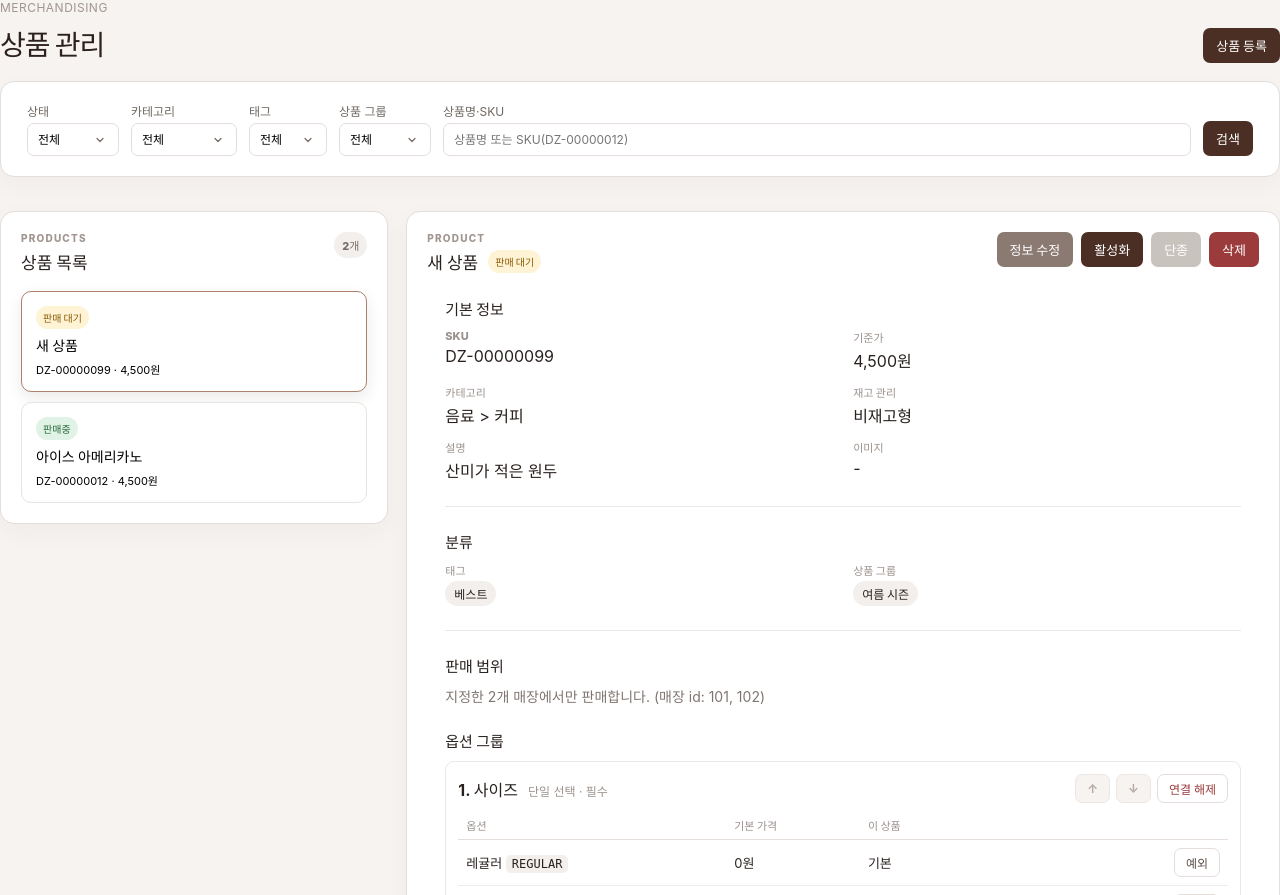
Test: ProductsPage 쓰기 › 등록에 성공하면 필터를 풀고 1페이지에서 새 상품을 선택해 안내한다
Select "판매 대기" in the dropdown labelled "상태". click: (73, 140)
box: [27, 123, 119, 156]
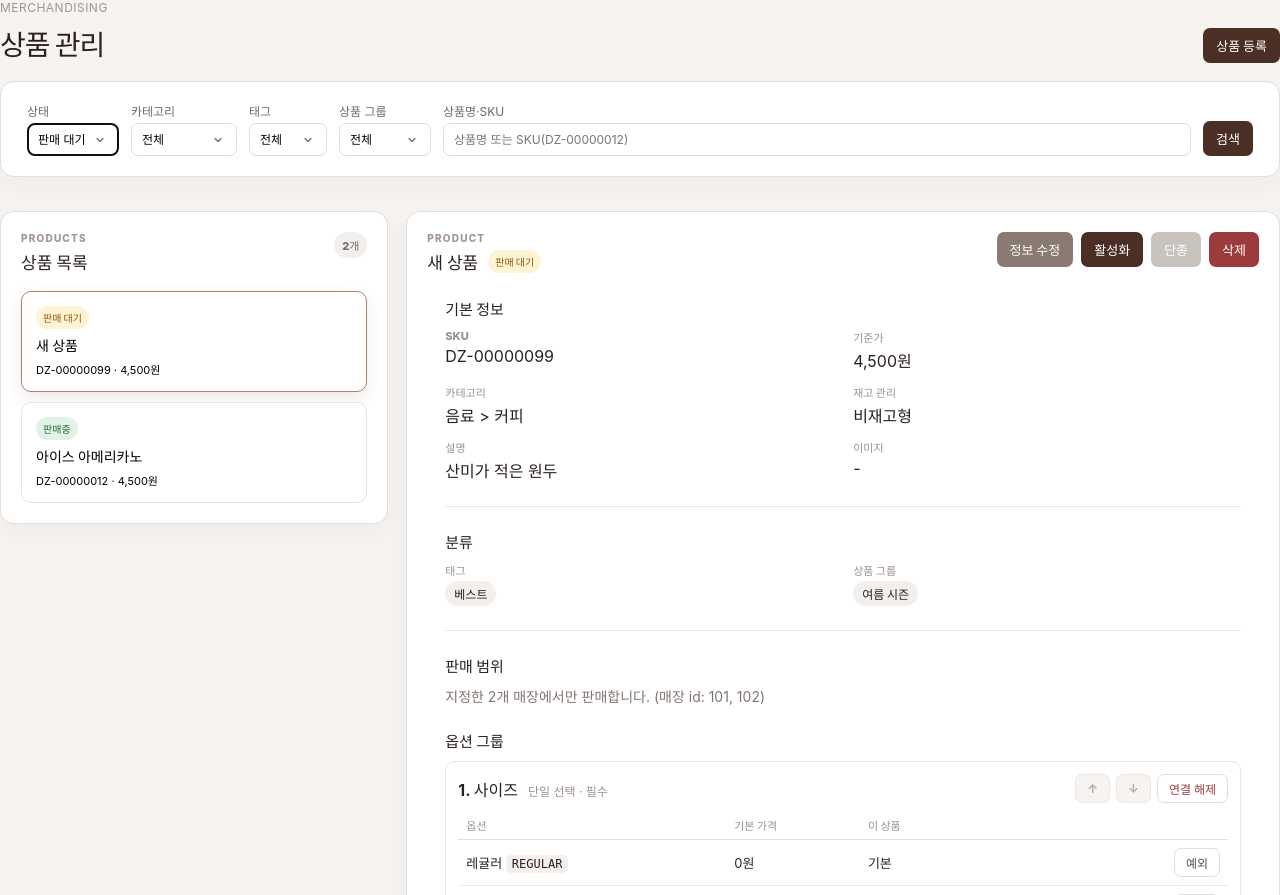
Click the button "상품 등록". click: (1242, 46)
box: [1203, 28, 1279, 63]
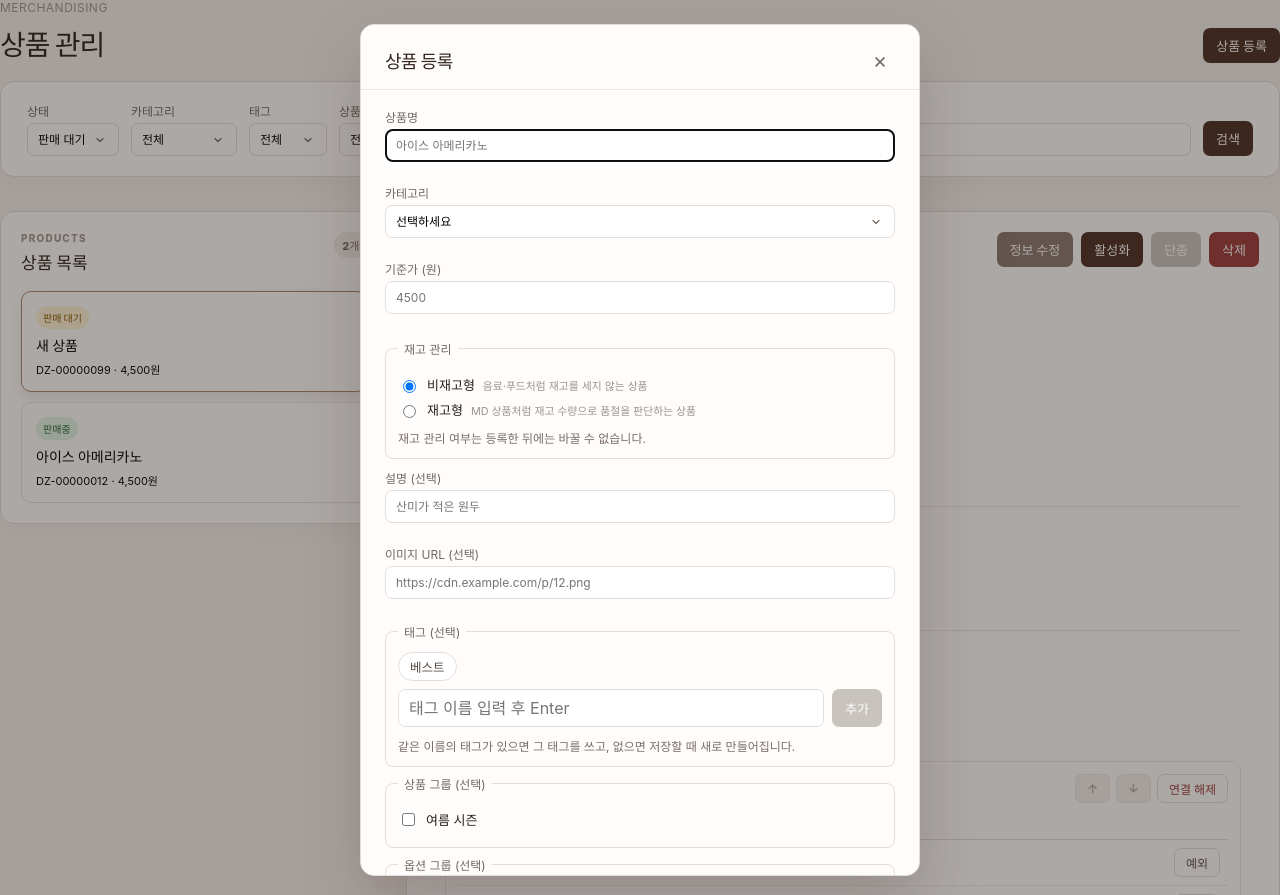
Type "새 상품" into the field labelled "상품명". click: (640, 146)
box: [385, 129, 895, 162]
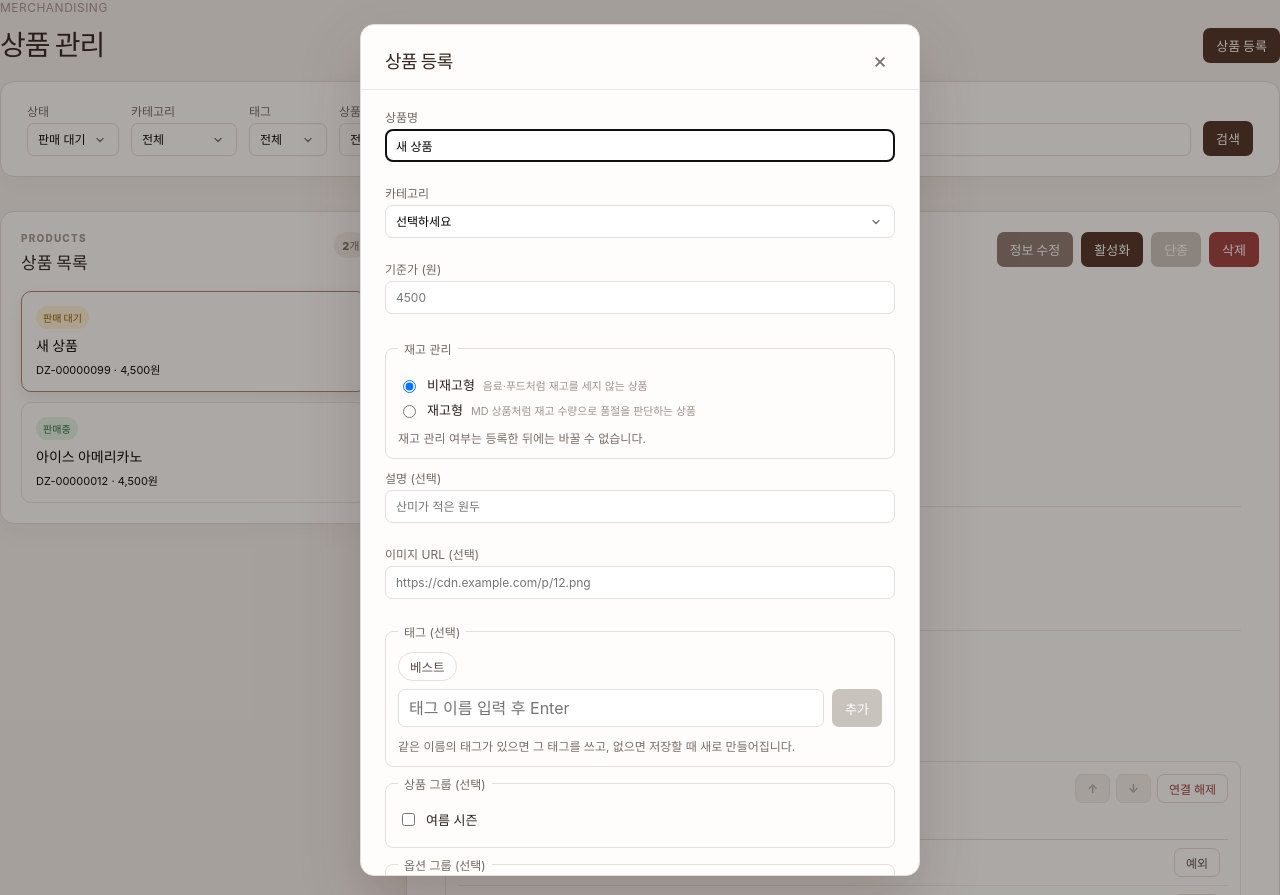
Select "커피" in the dropdown labelled "카테고리". click: (640, 222)
box: [385, 205, 895, 238]
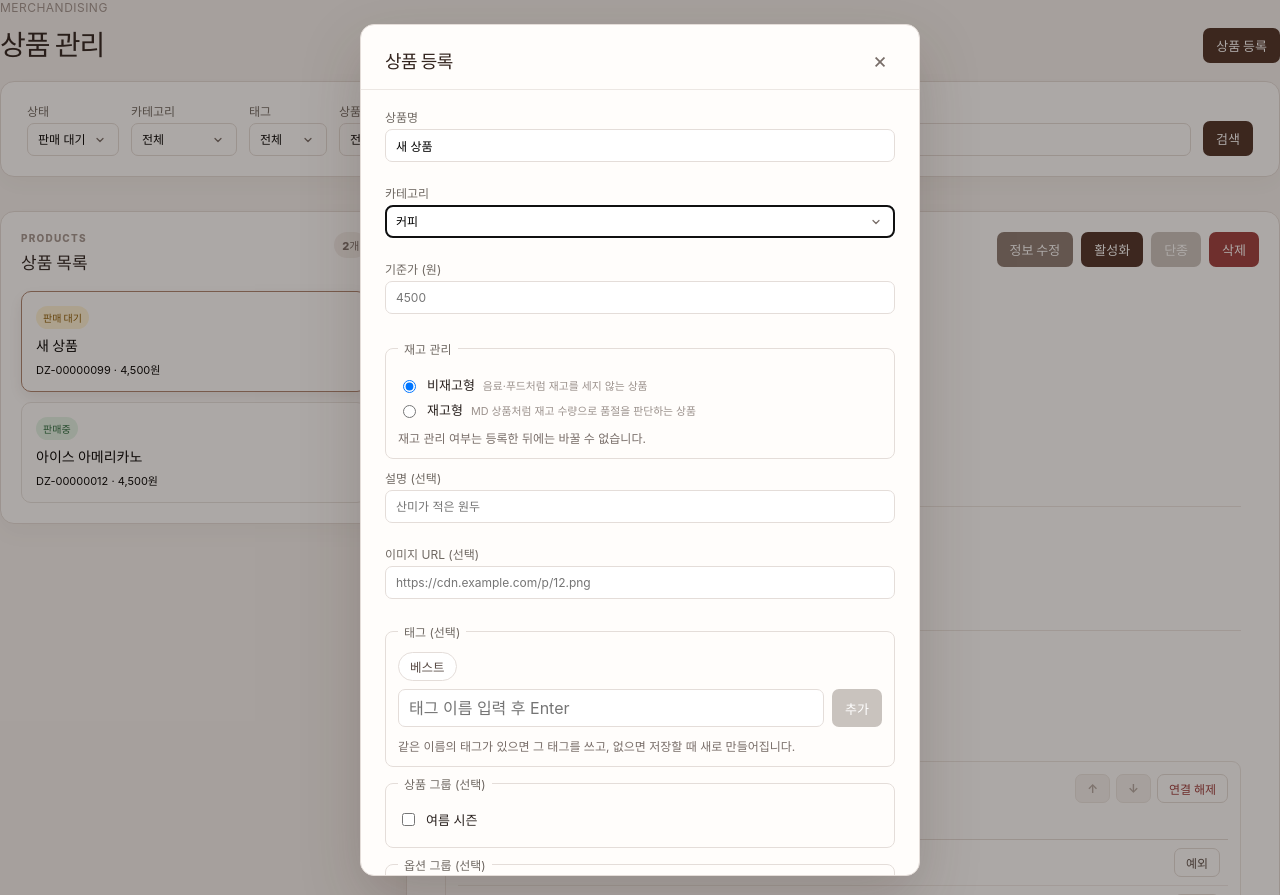
Type "4000" into the field labelled "기준가 (원)". click: (640, 298)
box: [385, 281, 895, 314]
(page scrolled)
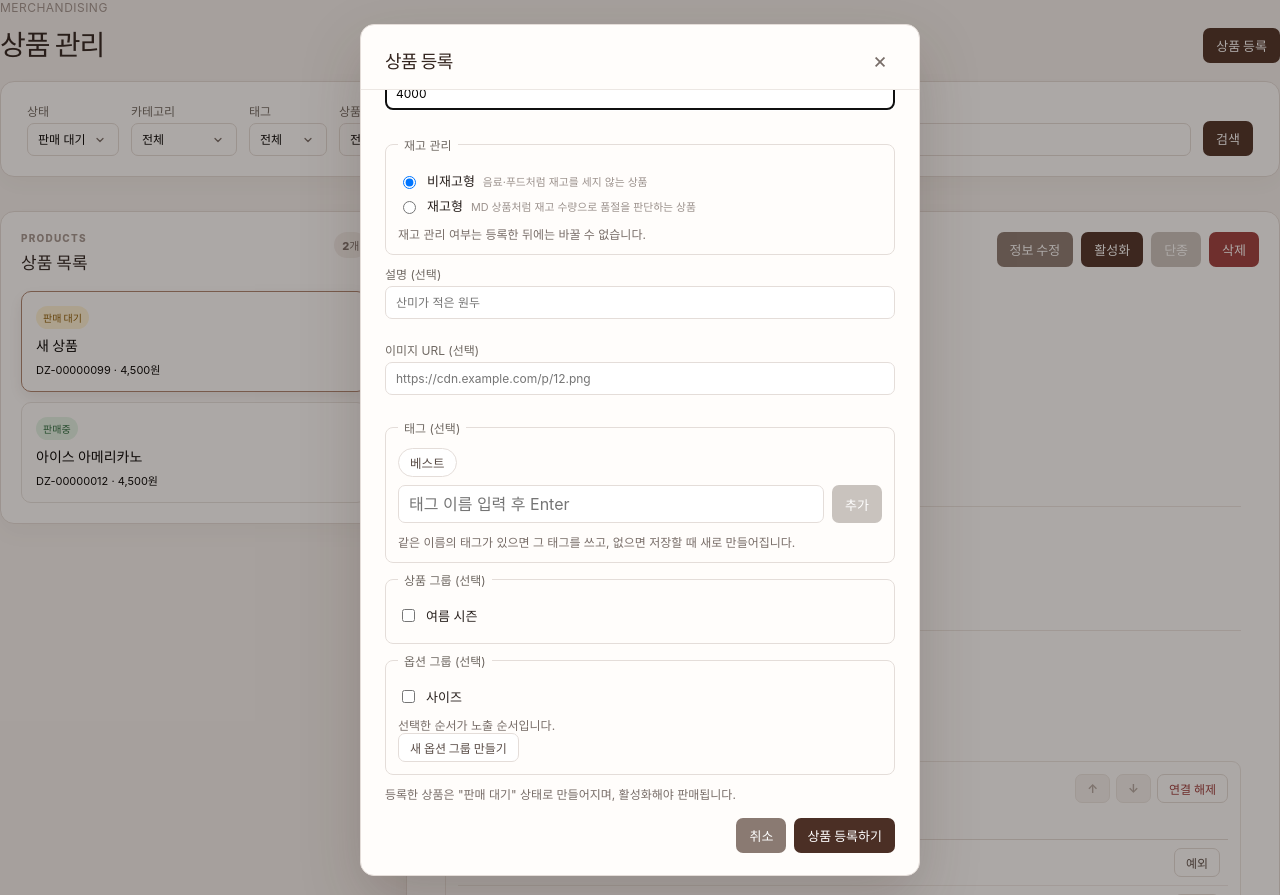
Click the button "상품 등록하기". click: (845, 836)
box: [794, 818, 895, 853]
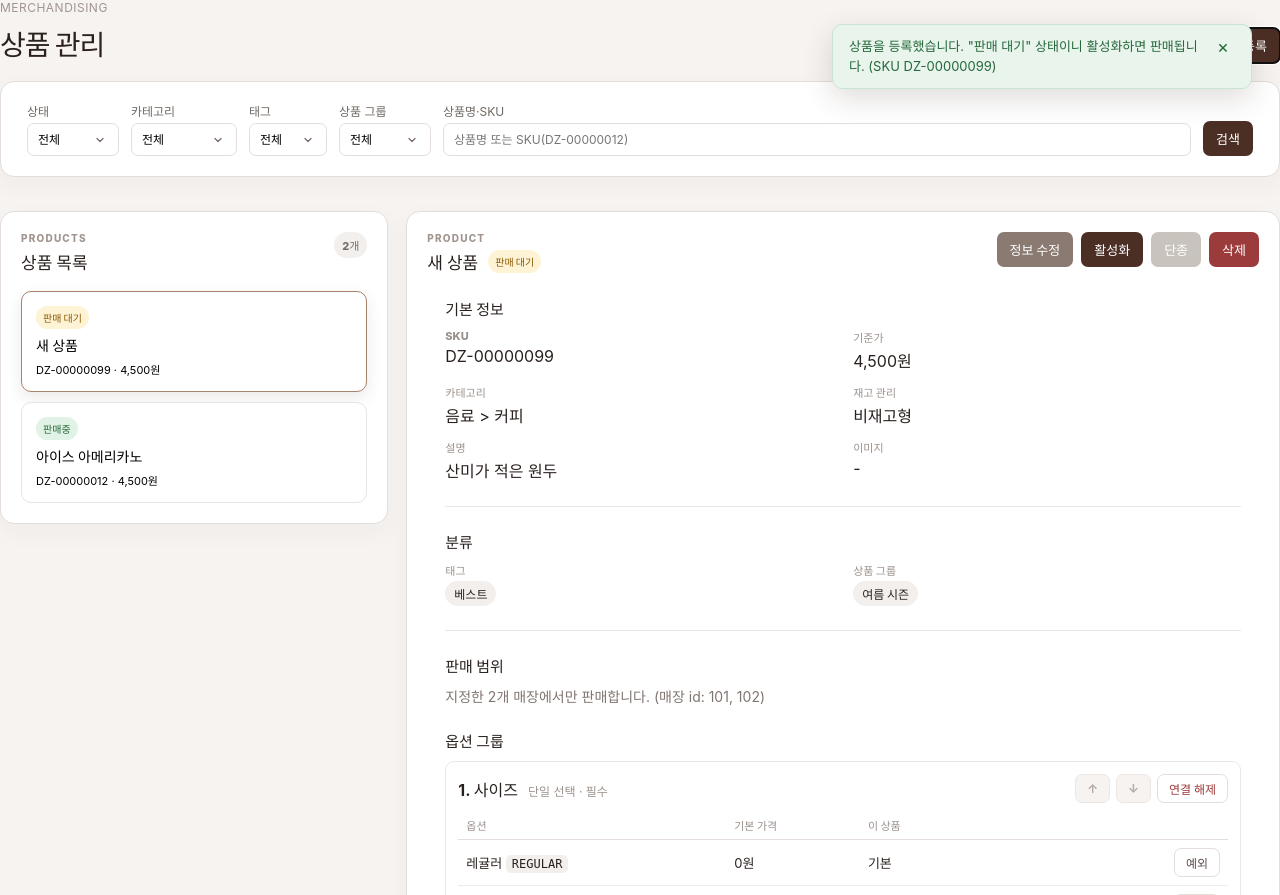
Check: the heading "새 상품" is shown, box [427, 249, 478, 274]
Check: the text "상품을 등록했습니다. \"판매 대기\" 상태이니 활성화하면 판매됩니다. (SKU DZ-00000099) ×" is shown, box [832, 24, 1252, 89]
